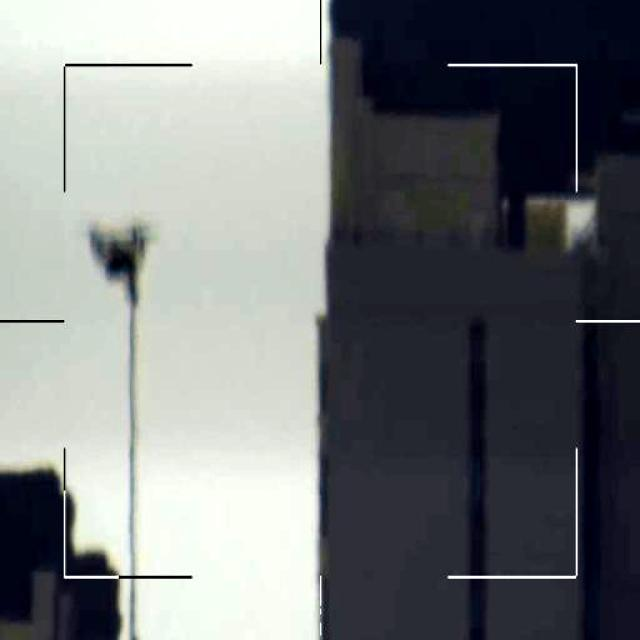bird: (86, 219, 150, 302)
